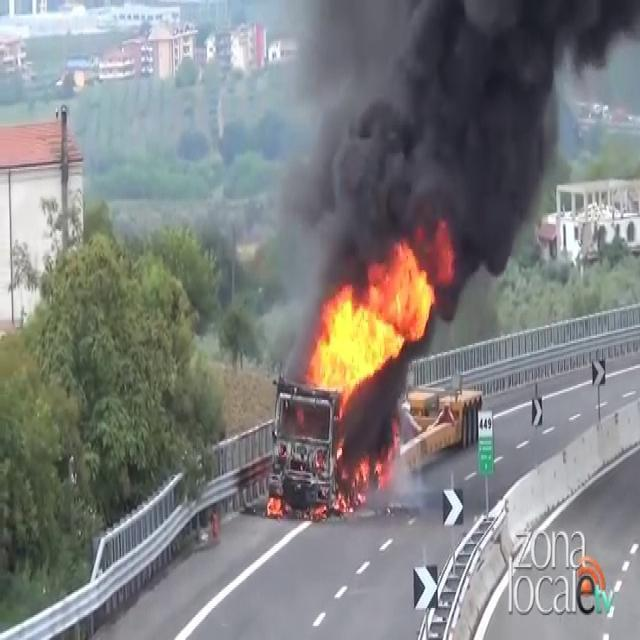Fire: (304, 242, 438, 398)
Smoke: (274, 0, 630, 270)
